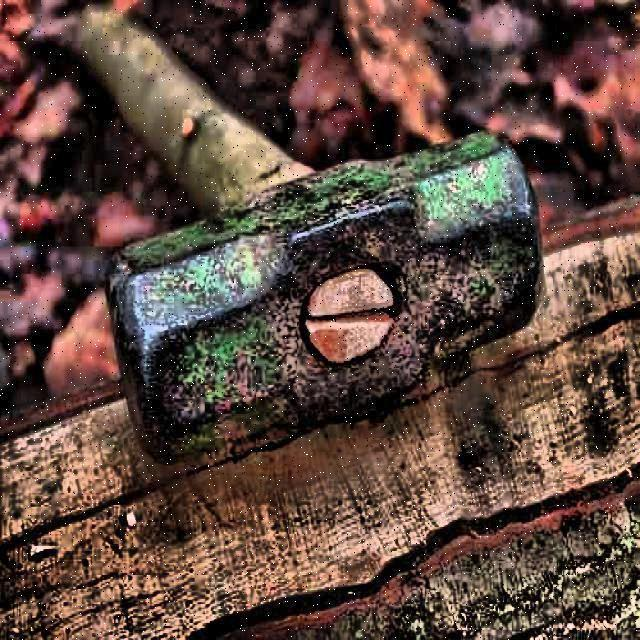hammer: (70, 0, 545, 468)
